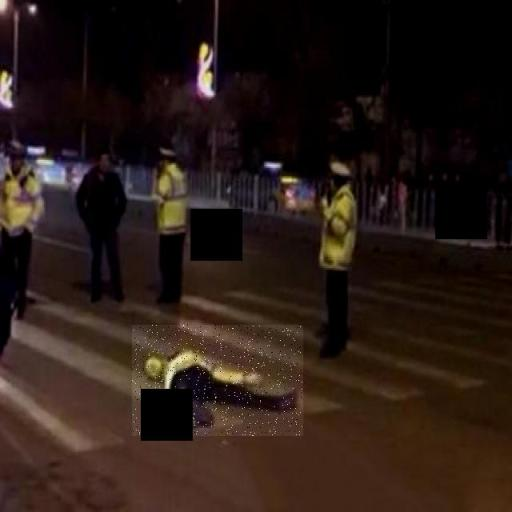Fall: (132, 325, 303, 436)
